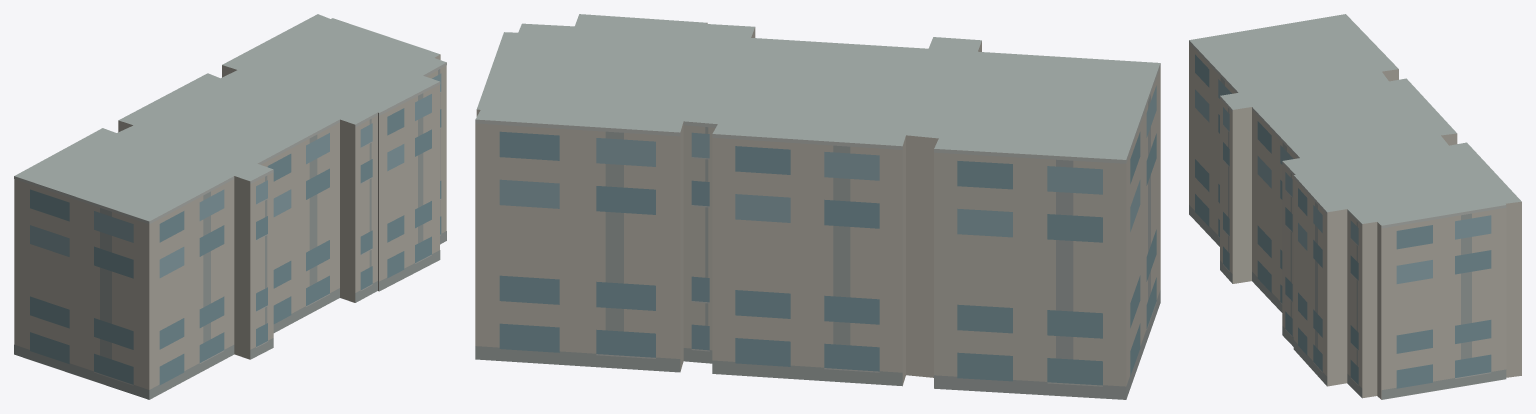
The model's file is survey-upis-32826710.glb.
3 views of the same model, side by side, from view 1: azimuth 30°, elevation 25°; view 2: azimuth 150°, elevation 25°; view 3: azimuth 270°, elevation 25° (orthographic). The views are drawn at different scales.
Parts seen in each view (by area): view 1: survey-upis-32826710.tmp; view 2: survey-upis-32826710.tmp; view 3: survey-upis-32826710.tmp.
Boxes of the visible parts, bbox=[...] form: survey-upis-32826710.tmp: bbox=[14, 14, 446, 399]; survey-upis-32826710.tmp: bbox=[475, 14, 1160, 399]; survey-upis-32826710.tmp: bbox=[1189, 14, 1521, 399].
Bounding box in the file's own units: 39.77 × 15.25 × 26.42.
